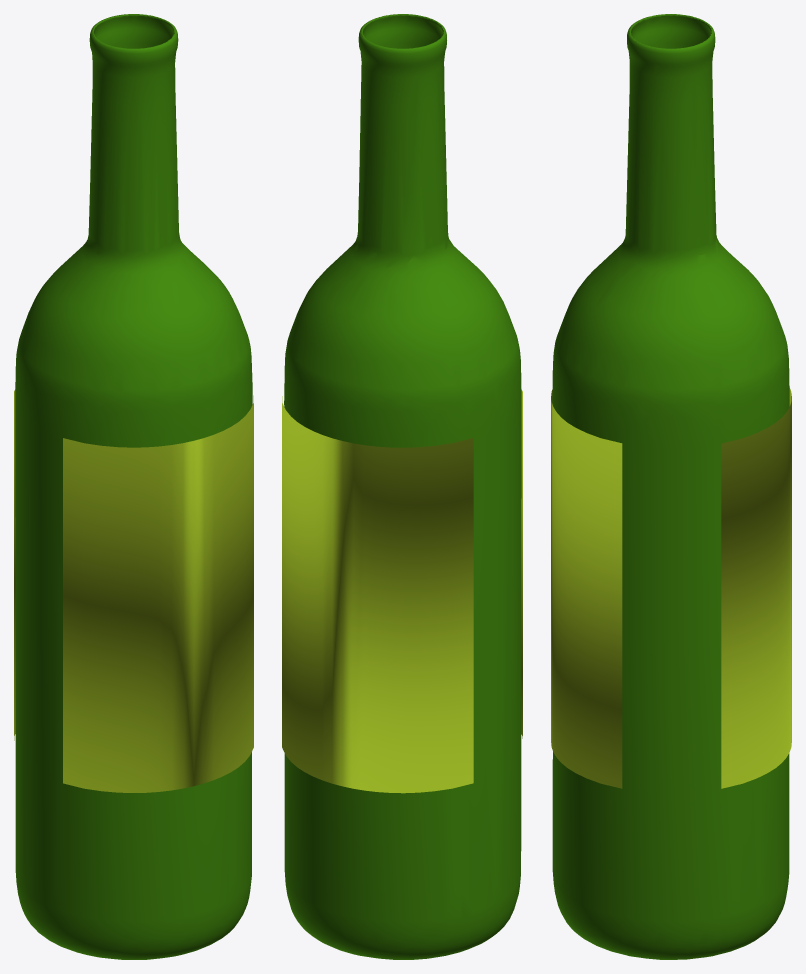
The model's file is Low_GreyGoose.fbx.
The picture shows the model from 3 angles, left to right: view 1: azimuth 30°, elevation 25°; view 2: azimuth 150°, elevation 25°; view 3: azimuth 270°, elevation 25°; orthographic projection.
Visible parts, largest first — view 1: Low_GreyGoose; view 2: Low_GreyGoose; view 3: Low_GreyGoose.
Part boxes in pixels (bbox=[...]): Low_GreyGoose: bbox=[14, 14, 253, 959]; Low_GreyGoose: bbox=[282, 14, 522, 959]; Low_GreyGoose: bbox=[551, 14, 791, 959].
Size of the model in its own units: 40.81 by 169 by 41.39.
